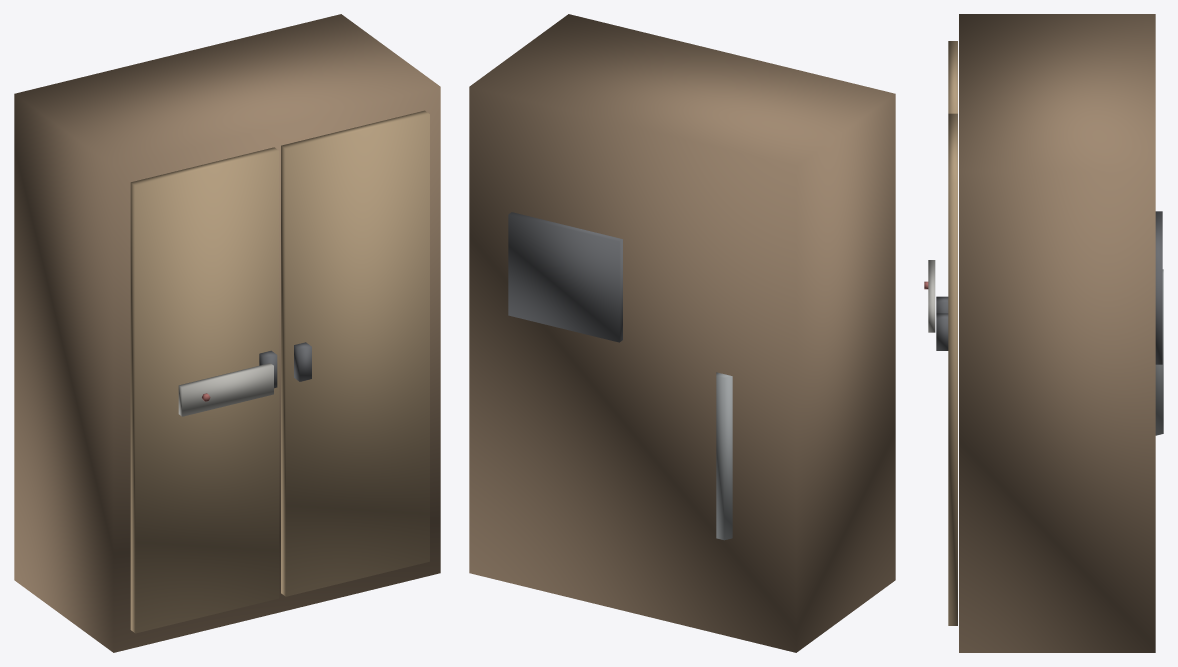
The model's file is case_file_cabinet__service.glb.
3 renders of one model, left to right at view 1: azimuth 30°, elevation 25°; view 2: azimuth 150°, elevation 25°; view 3: azimuth 270°, elevation 25°, orthographic.
Visible parts, largest first — view 1: world; view 2: world; view 3: world.
Part boxes in pixels (x1=…): world: x1=14, y1=14, x2=440, y2=652; world: x1=469, y1=14, x2=895, y2=652; world: x1=924, y1=14, x2=1163, y2=652.
Bounding box in the file's own units: 0.95 × 1.35 × 0.6091.
